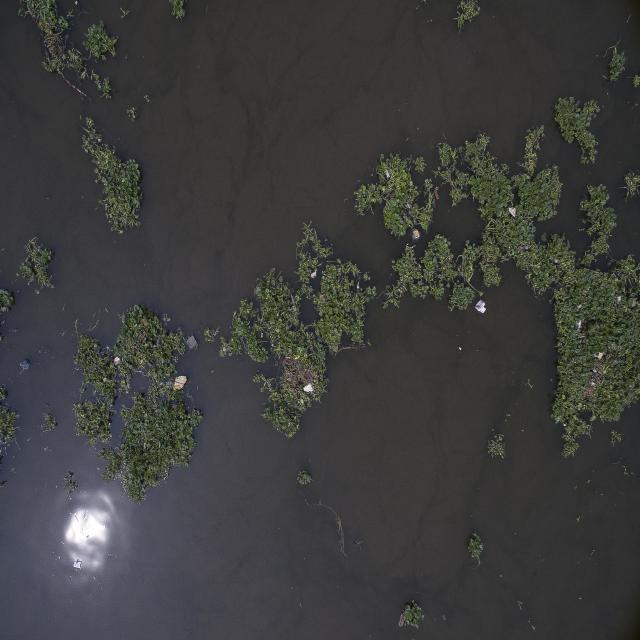plastic: (163, 369, 194, 396), (471, 290, 492, 327), (182, 328, 204, 358), (298, 379, 320, 403), (574, 307, 587, 337), (507, 199, 520, 220), (408, 230, 425, 246), (598, 348, 608, 369), (616, 290, 626, 308), (385, 166, 395, 184)
